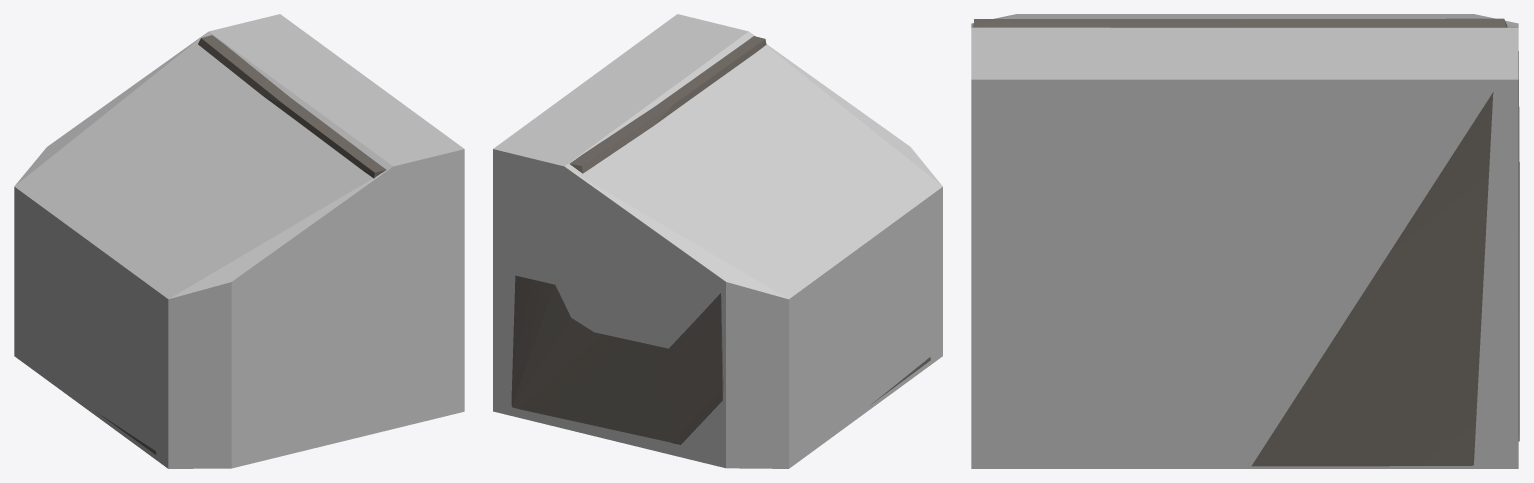
The model's file is SM_Env_Rock_Stairs_03.fbx.
3 renders of one model, left to right at view 1: azimuth 30°, elevation 25°; view 2: azimuth 150°, elevation 25°; view 3: azimuth 270°, elevation 25°, orthographic. The views are drawn at different scales.
Parts seen in each view (by area): view 1: SM_Env_Rock_Stairs_03_ConvexHulls, SM_Env_Rock_Stairs_03; view 2: SM_Env_Rock_Stairs_03_ConvexHulls, SM_Env_Rock_Stairs_03; view 3: SM_Env_Rock_Stairs_03_ConvexHulls, SM_Env_Rock_Stairs_03.
Boxes of the visible parts, x1=… form: SM_Env_Rock_Stairs_03_ConvexHulls: x1=14, y1=14, x2=464, y2=468; SM_Env_Rock_Stairs_03: x1=95, y1=35, x2=386, y2=454; SM_Env_Rock_Stairs_03_ConvexHulls: x1=493, y1=14, x2=942, y2=468; SM_Env_Rock_Stairs_03: x1=511, y1=36, x2=930, y2=444; SM_Env_Rock_Stairs_03_ConvexHulls: x1=971, y1=14, x2=1518, y2=468; SM_Env_Rock_Stairs_03: x1=973, y1=18, x2=1519, y2=466.
Bounding box in the file's own units: 230 × 261 × 206.
Materials: 2 (1 with a texture image).
